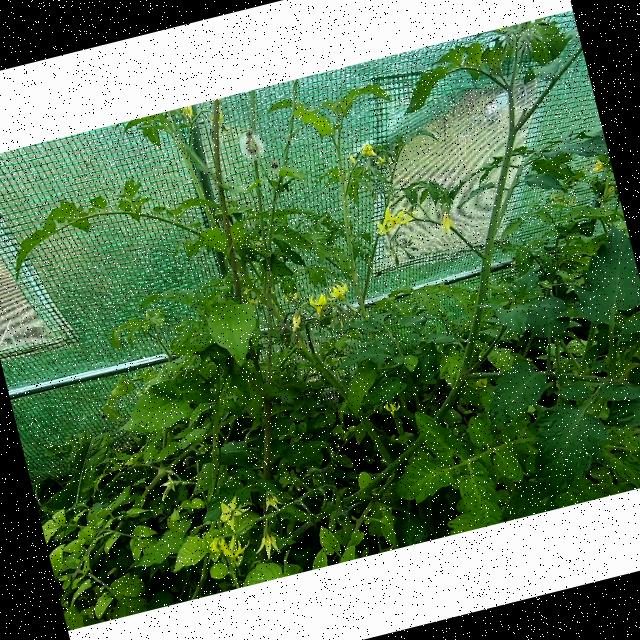Flowers: (207, 530, 254, 568), (373, 199, 421, 233), (214, 493, 252, 533), (250, 519, 285, 561), (304, 289, 332, 319), (158, 472, 184, 500), (437, 206, 460, 234), (326, 279, 350, 303), (262, 488, 286, 511), (380, 398, 402, 419), (180, 105, 198, 126), (290, 310, 305, 331), (359, 142, 377, 158), (589, 157, 607, 173), (372, 153, 387, 169), (344, 152, 356, 166)
